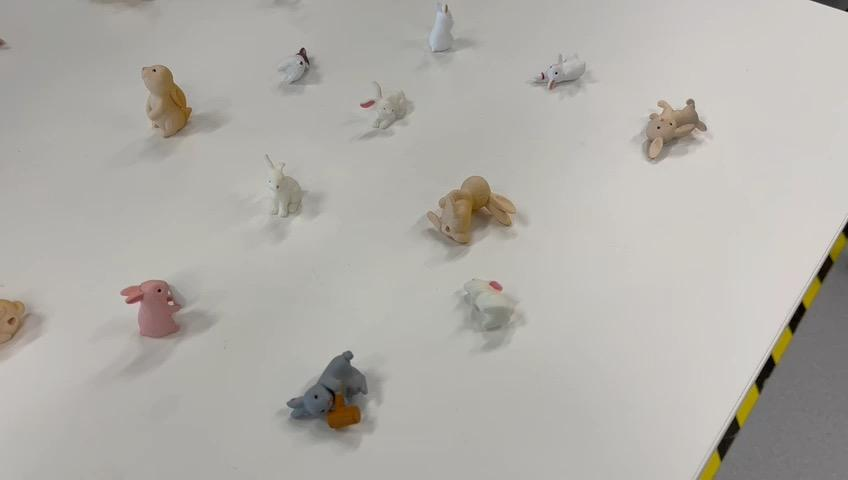pet: (285, 349, 371, 435), (424, 174, 518, 248), (643, 88, 712, 162), (137, 60, 196, 142), (118, 272, 186, 342), (454, 274, 520, 342), (260, 152, 313, 221), (359, 76, 412, 132), (534, 48, 593, 89), (277, 43, 319, 89), (423, 0, 458, 55)
